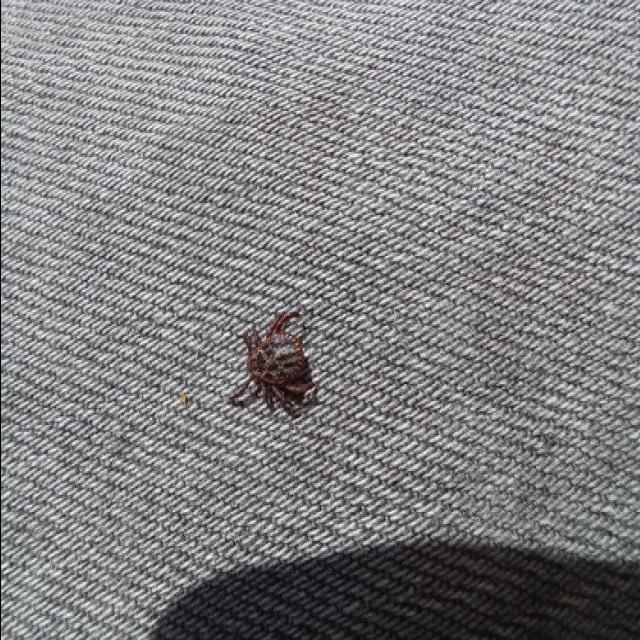Dermacentor Reticulatus-M: (233, 311, 317, 416)
